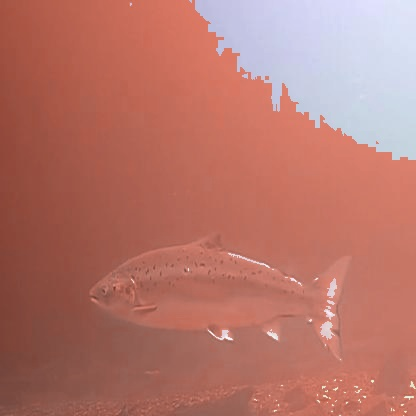salmon: (86, 230, 355, 366)
